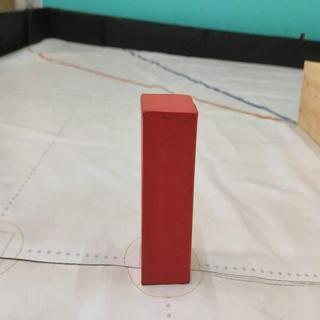redbox: (140, 94, 193, 285)
